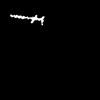double_crochet: (10, 15, 43, 24)
